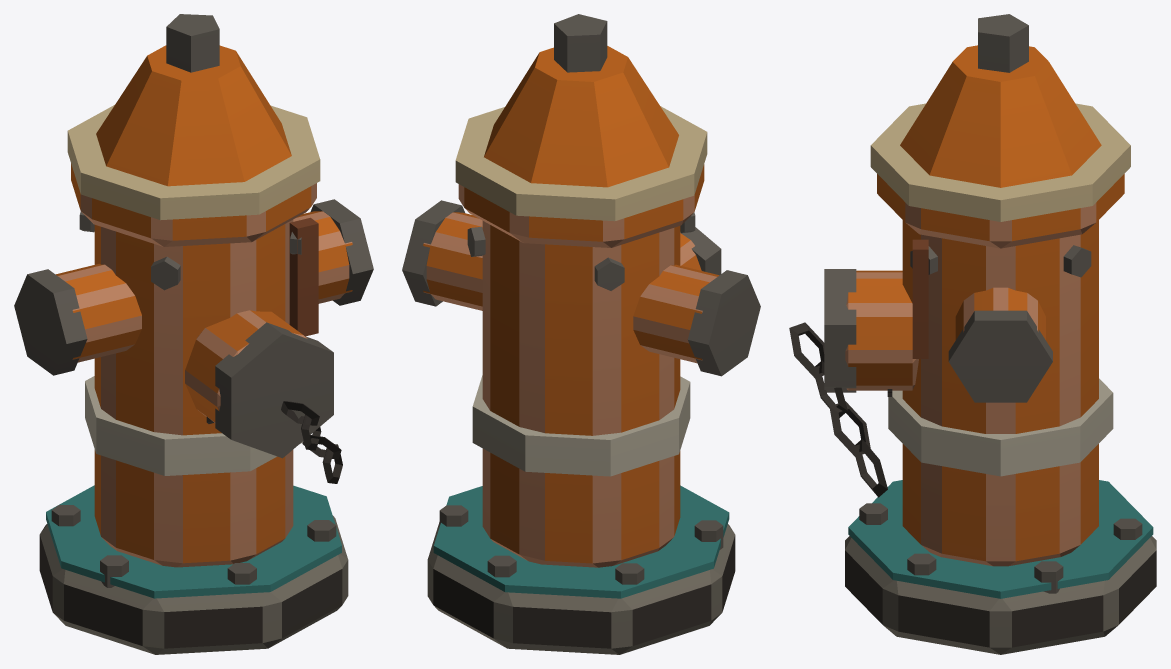
Rendered from c_hydrant.glb.
The picture shows the model from 3 angles, left to right: view 1: azimuth 30°, elevation 25°; view 2: azimuth 150°, elevation 25°; view 3: azimuth 270°, elevation 25°; orthographic projection.
Visible parts, largest first — view 1: c_hydrant; view 2: c_hydrant; view 3: c_hydrant.
Part boxes in pixels (box(x1,y1,x2,y2)): c_hydrant: box(14, 14, 373, 654); c_hydrant: box(402, 14, 760, 654); c_hydrant: box(789, 14, 1156, 654).
Size of the model in its own units: 0.44 by 0.78 by 0.4579.
